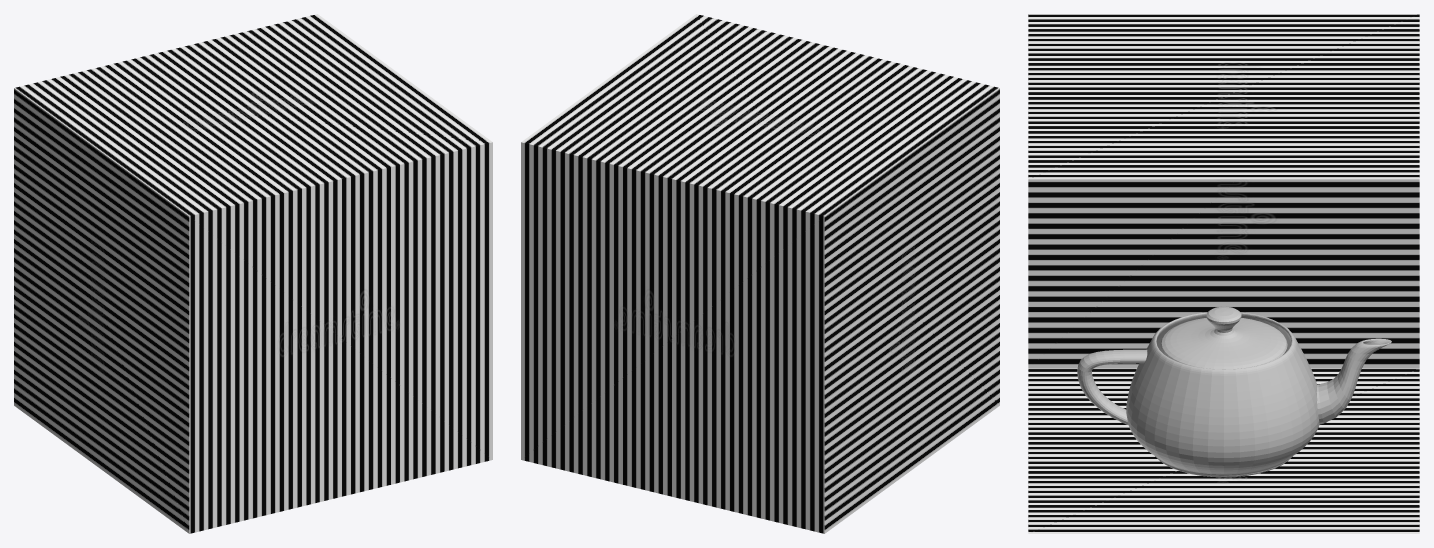
The model's file is teapotbox.obj.
3 views of the same model, side by side, from view 1: azimuth 30°, elevation 25°; view 2: azimuth 150°, elevation 25°; view 3: azimuth 270°, elevation 25° (orthographic). The views are drawn at different scales.
Visible parts, largest first — view 1: Plane, Plane.002, Plane.003; view 2: Plane.004, Plane.002, Plane.003; view 3: Plane.002, Plane.003, Plane.005, teapot.001.
Part boxes in pixels (x1,y1,x2,y2): Plane: [189, 142, 492, 533]; Plane.002: [14, 88, 189, 533]; Plane.003: [14, 14, 492, 216]; Plane.004: [521, 142, 824, 533]; Plane.002: [824, 88, 999, 533]; Plane.003: [521, 14, 999, 216]; Plane.002: [1028, 179, 1419, 368]; Plane.003: [1028, 14, 1419, 179]; Plane.005: [1028, 368, 1419, 533]; teapot.001: [1077, 306, 1391, 477].
Bounding box in the file's own units: 8 × 8 × 8.
3 materials, 1 textured.
